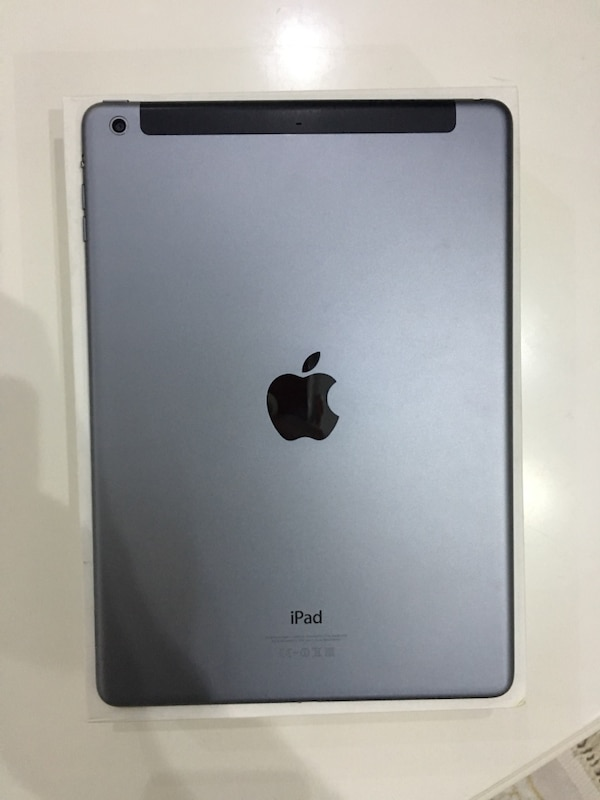apple: (234, 329, 369, 461)
